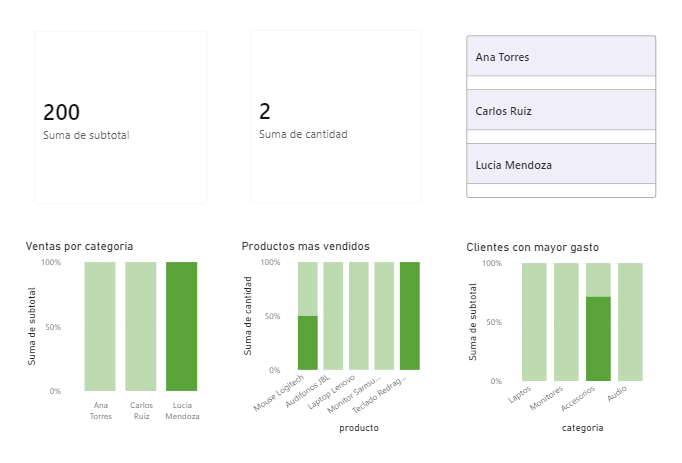

The dashboard page shown, as its layout file describes it:
{"tool":"powerbi","page":{"name":"Dashboard","canvas":[1280,720],"ordinal":0},"visuals":[{"type":"hundredPercentStackedColumnChart","title":"Clientes con mayor gasto","fields":{"Category":["Tabla1.categoria"],"Y":["Sum(Tabla1.subtotal)"]},"box":[728.6,371.4,281.4,281.4],"z":0},{"type":"hundredPercentStackedColumnChart","title":"Productos mas vendidos","fields":{"Category":["Tabla1.producto"],"Y":["Sum(Tabla1.cantidad)"]},"box":[407.1,370,280,282.9],"z":1000},{"type":"hundredPercentStackedColumnChart","title":"Ventas por categoria","fields":{"Category":["Tabla1.cliente"],"Y":["Sum(Tabla1.subtotal)"]},"box":[99,370,281,281],"z":2000},{"type":"cardVisual","fields":{"Data":["Sum(Tabla1.subtotal)"]},"box":[98.6,55.7,281.4,281.4],"z":3000},{"type":"cardVisual","fields":{"Data":["Sum(Tabla1.cantidad)"]},"box":[407.1,54.3,280,282.9],"z":4000},{"type":"cardVisual","fields":{"Rows":["Tabla1.cliente"]},"box":[729,54,281,283],"z":7001}]}

Visuals, with their boxes on the page's 1280x720 design canvas (x1, y1, x2, y2). These are canvas units, not pixel positions in the 682x463 screenshot, which may show the page scaled, cropped or inside an application window:
"Clientes con mayor gasto" hundredPercentStackedColumnChart: [729, 371, 1010, 653]
"Productos mas vendidos" hundredPercentStackedColumnChart: [407, 370, 687, 653]
"Ventas por categoria" hundredPercentStackedColumnChart: [99, 370, 380, 651]
cardVisual - Sum(Tabla1.subtotal): [99, 56, 380, 337]
cardVisual - Sum(Tabla1.cantidad): [407, 54, 687, 337]
cardVisual - Tabla1.cliente: [729, 54, 1010, 337]
